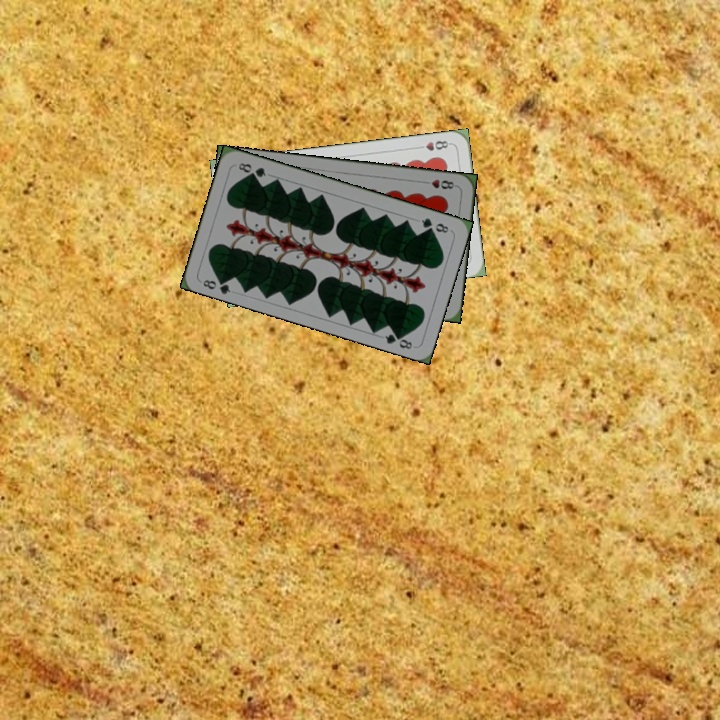G8: (199, 273, 233, 297), (417, 214, 451, 236)
H8: (413, 136, 453, 153), (419, 175, 459, 192)
